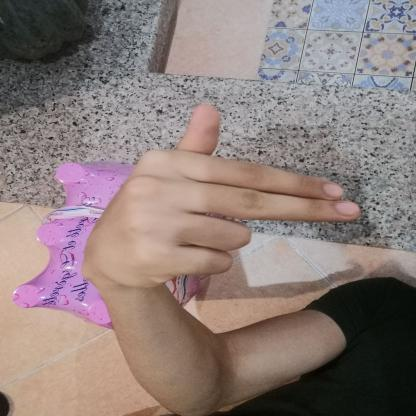GHAYN: (67, 95, 375, 298)
